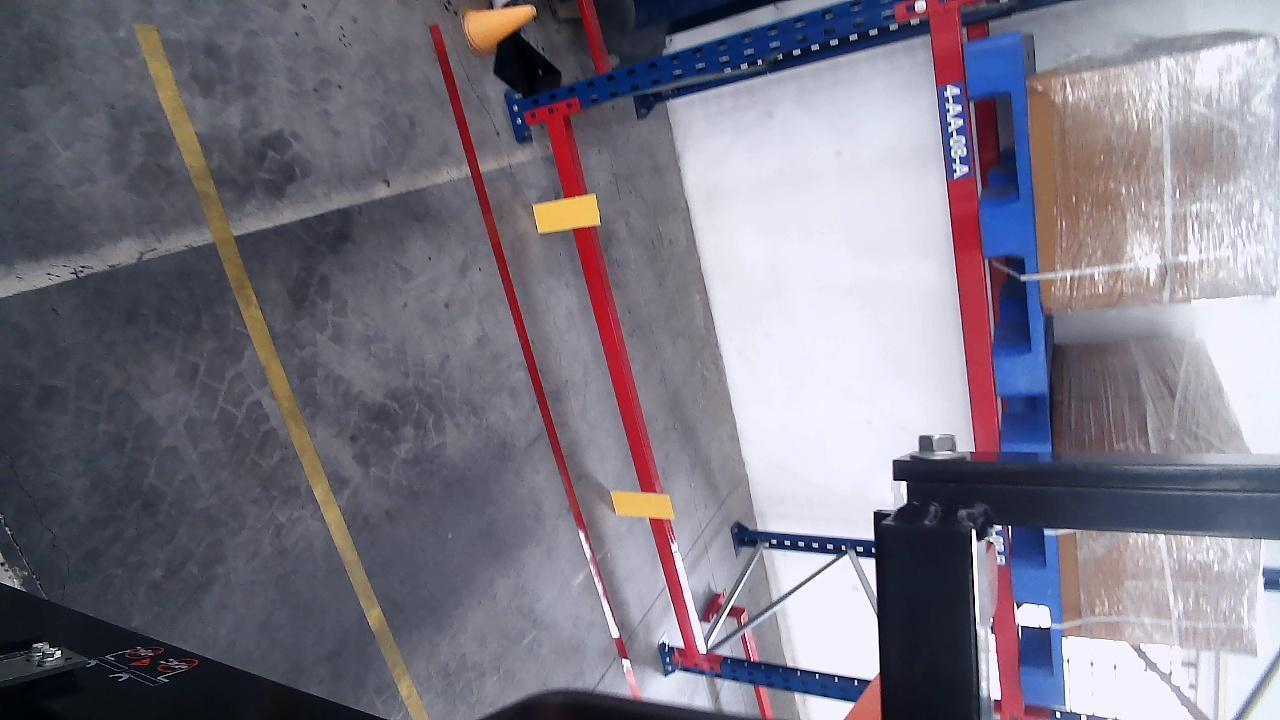red_line: (427, 22, 640, 699)
yellow_line: (132, 22, 434, 720)
